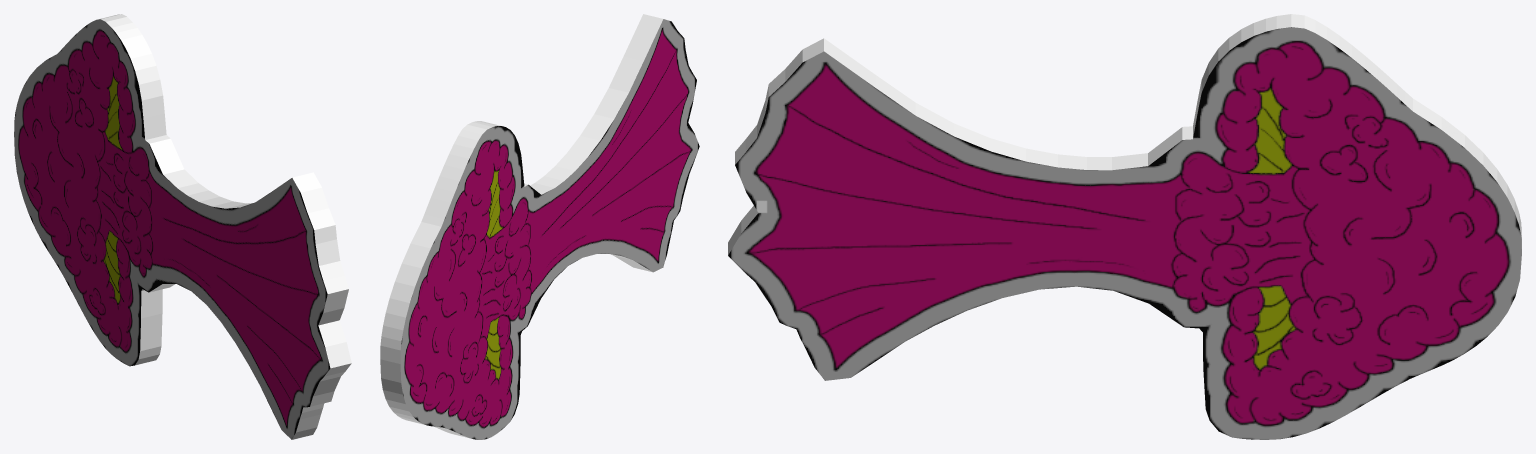
The model's file is Big Shroom.fbx.
3 renders of one model, left to right at view 1: azimuth 30°, elevation 25°; view 2: azimuth 150°, elevation 25°; view 3: azimuth 270°, elevation 25°, orthographic. The views are drawn at different scales.
Visible parts, largest first — view 1: BezierCurve; view 2: BezierCurve; view 3: BezierCurve.
Part boxes in pixels (left/top/right/bottom): BezierCurve: left=14, top=14, right=351, bottom=439; BezierCurve: left=380, top=14, right=699, bottom=439; BezierCurve: left=728, top=14, right=1521, bottom=439.
Size of the model in its own units: 0.02 by 0.512 by 0.2937.
